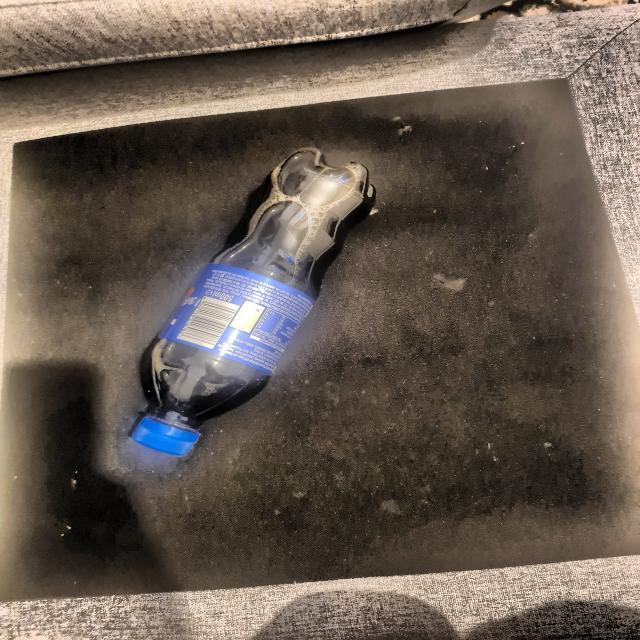pepsi-bottle: (129, 146, 383, 454)
